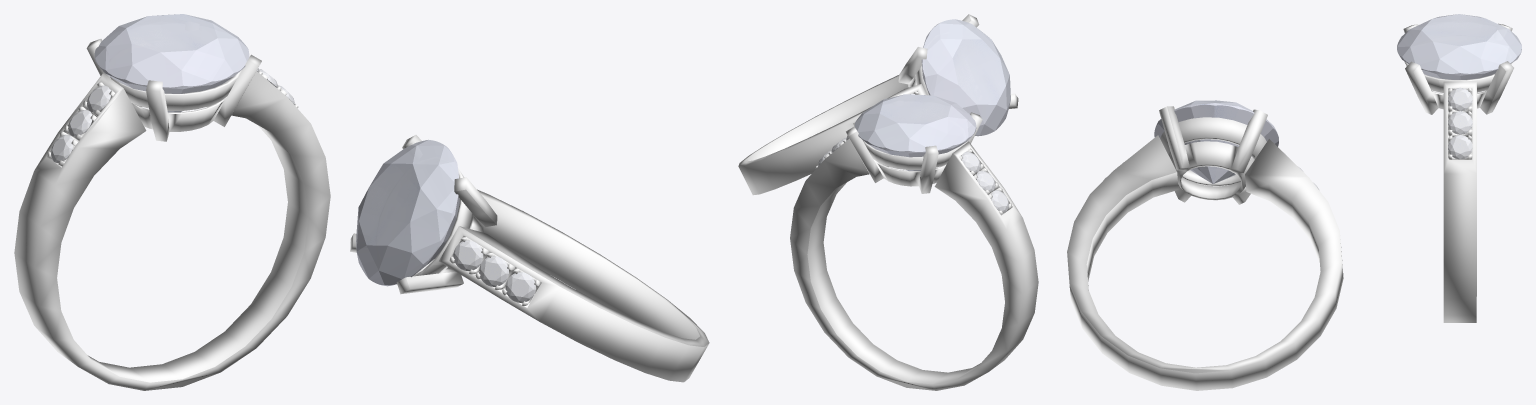
The model's file is mother_daughter_diamond_platinum.dae.
The picture shows the model from 3 angles, left to right: view 1: azimuth 30°, elevation 25°; view 2: azimuth 150°, elevation 25°; view 3: azimuth 270°, elevation 25°; orthographic projection. The views are drawn at different scales.
Parts seen in each view (by area): view 1: group_1 (×5), group_4 (×2), group_3 (×4); view 2: group_1 (×4), group_4 (×2), group_3 (×3); view 3: group_1 (×4), group_3 (×5), group_4 (×2).
Boxes of the visible parts, x1,y1,x2,y2 form: group_1 (×5): (14,71,709,390); group_4 (×2): (94,14,459,286); group_3 (×4): (86,39,497,294); group_1 (×4): (738,75,1038,390); group_4 (×2): (854,19,1010,170); group_3 (×3): (846,14,1018,193); group_1 (×4): (1067,81,1476,390); group_3 (×5): (1159,23,1513,204); group_4 (×2): (1154,14,1521,183).
Bounding box in the file's own units: 2.67 × 2.6 × 1.76.
4 materials, 2 textured.
